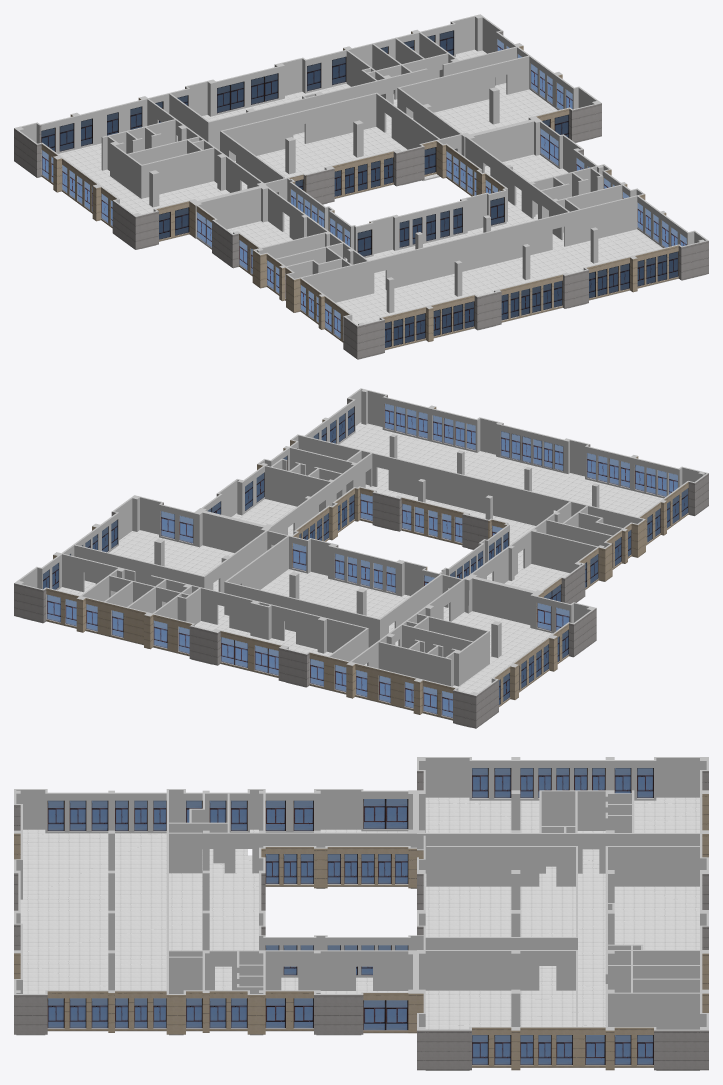
3 views of the same model, one above another, from view 1: azimuth 30°, elevation 25°; view 2: azimuth 150°, elevation 25°; view 3: azimuth 270°, elevation 25° (orthographic). The views are drawn at different scales.
Parts seen in each view (by area): view 1: LC_4F_qiang, LC_4F_diban, C_4F_chuang; view 2: LC_4F_qiang, C_4F_chuang, LC_4F_diban; view 3: LC_4F_qiang, LC_4F_diban, C_4F_chuang.
Boxes of the visible parts, <box> form: LC_4F_qiang: <box>14,14,708,359</box>; LC_4F_diban: <box>37,49,705,359</box>; C_4F_chuang: <box>41,30,686,347</box>; LC_4F_qiang: <box>14,388,708,728</box>; C_4F_chuang: <box>43,403,688,718</box>; LC_4F_diban: <box>22,422,694,727</box>; LC_4F_qiang: <box>14,757,708,1070</box>; LC_4F_diban: <box>16,797,699,1070</box>; C_4F_chuang: <box>47,768,653,1064</box>.
Size of the model in its own units: 57600 by 4044 by 61850.
Materials: 5 (4 with a texture image).
